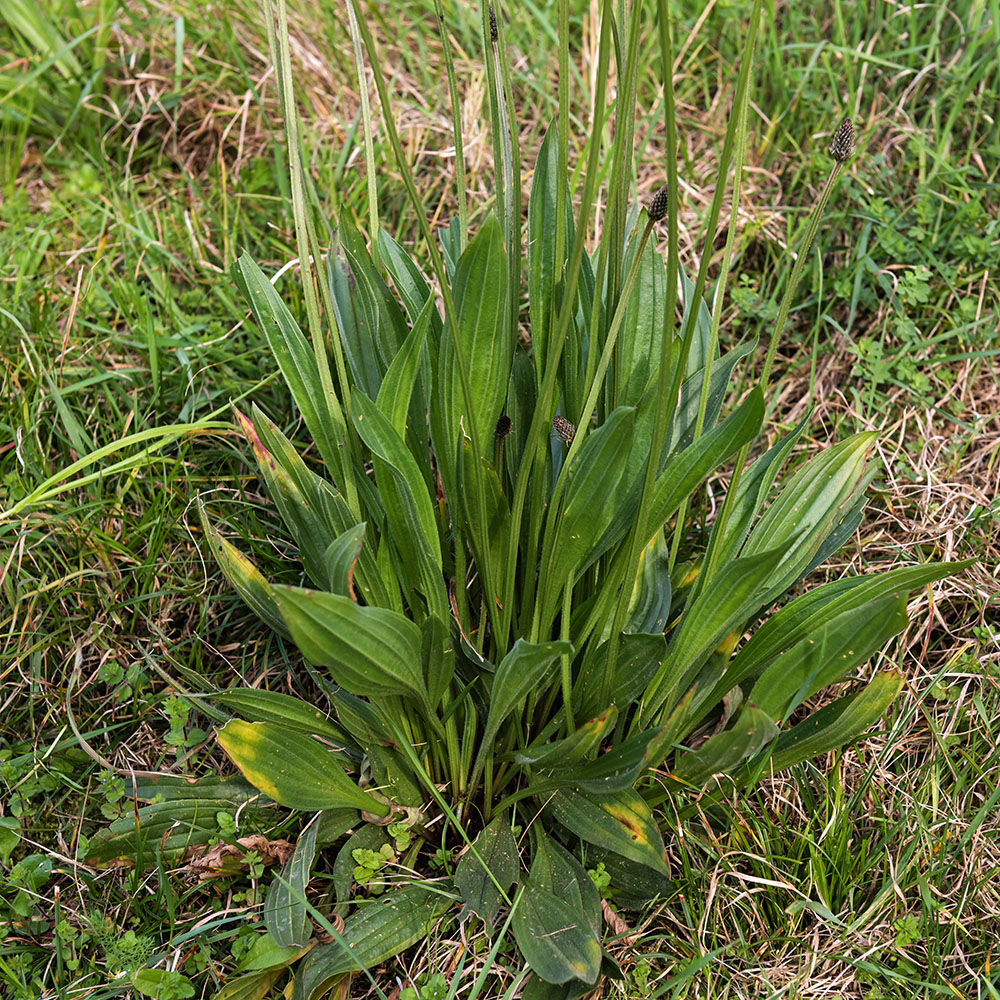buckhorn plantain: (200, 9, 920, 931)
